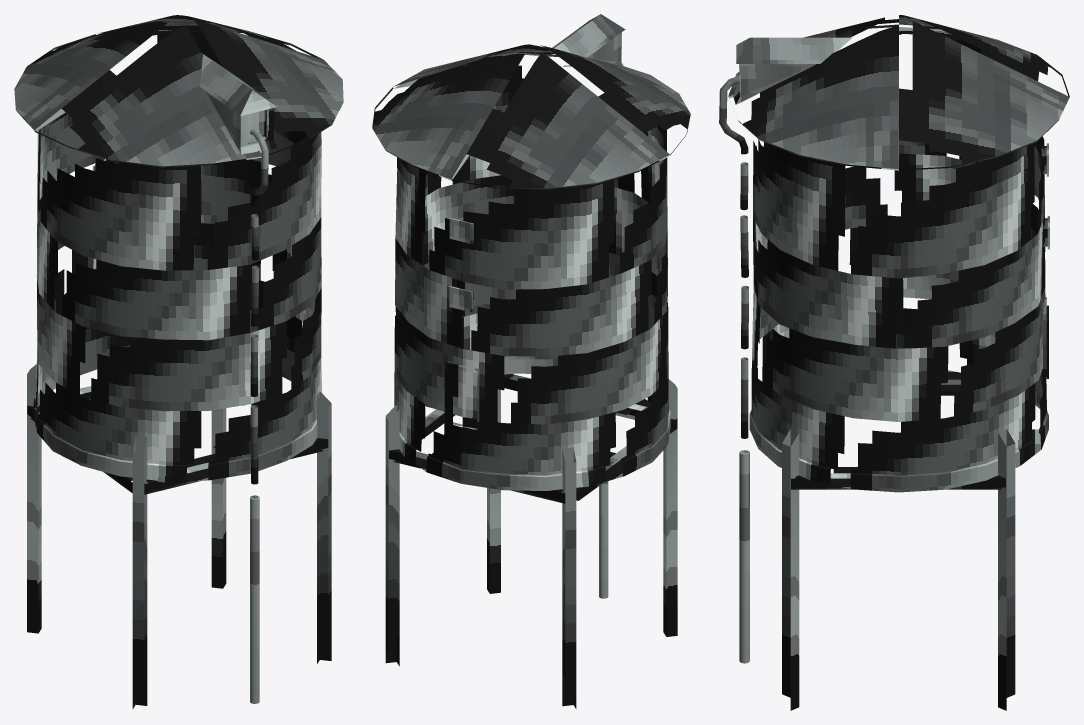
The model's file is brewery.fbx.
3 views of the same model, side by side, from view 1: azimuth 30°, elevation 25°; view 2: azimuth 150°, elevation 25°; view 3: azimuth 270°, elevation 25° (orthographic). The views are drawn at different scales.
Parts seen in each view (by area): view 1: Building_12; view 2: Building_12; view 3: Building_12.
Boxes of the visible parts, bbox=[...] form: Building_12: bbox=[14, 15, 343, 708]; Building_12: bbox=[372, 14, 690, 708]; Building_12: bbox=[719, 15, 1069, 710].
Bounding box in the file's own units: 662 × 1382 × 679.
